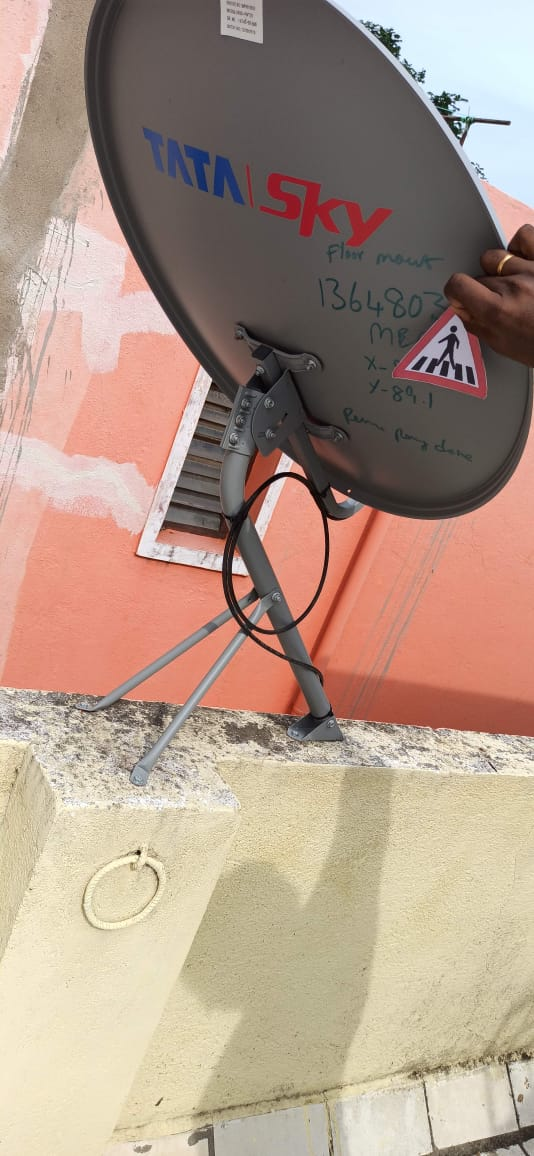PEDESTRIAN CROSSING: (392, 283, 523, 425)
